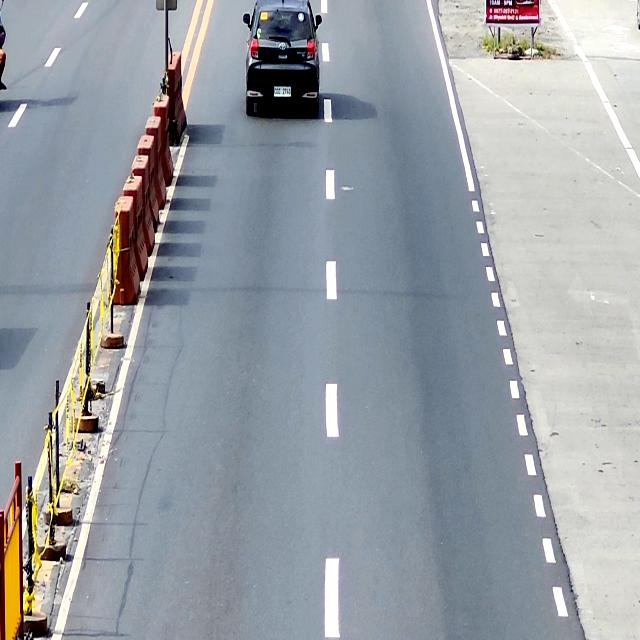Car: (241, 0, 324, 120)
License-Plate: (272, 85, 292, 99)
